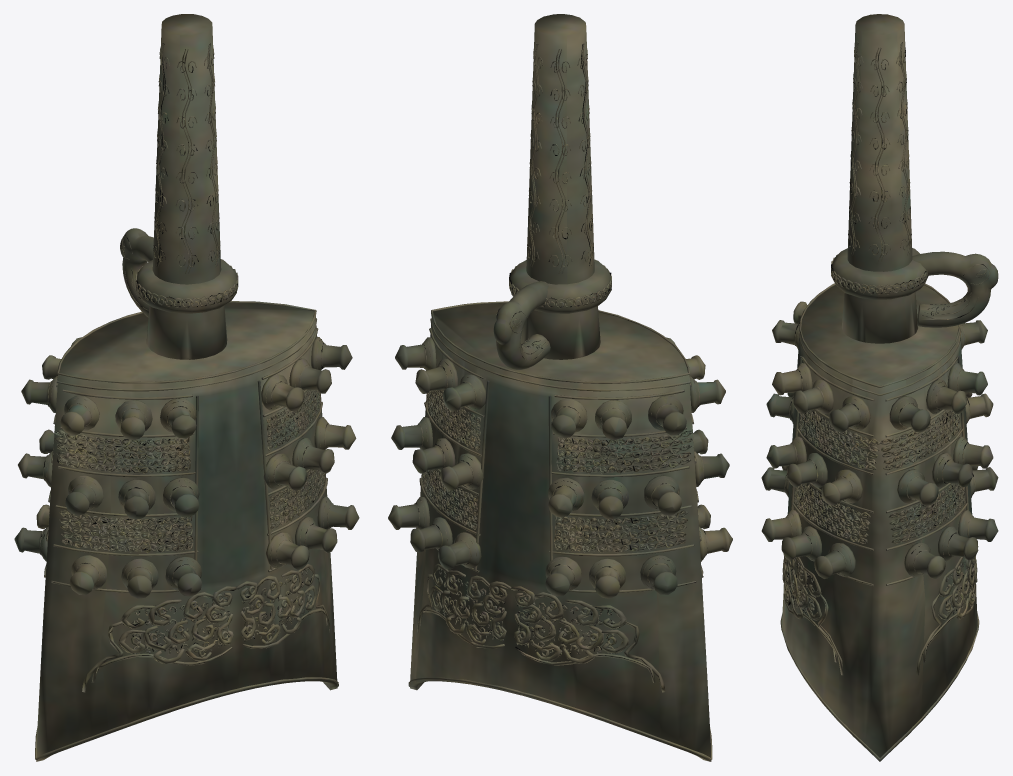
File: single-bell-observation.glb
3 renders of one model, left to right at view 1: azimuth 30°, elevation 25°; view 2: azimuth 150°, elevation 25°; view 3: azimuth 270°, elevation 25°, orthographic. The views are drawn at different scales.
Parts seen in each view (by area): view 1: BellObservation; view 2: BellObservation; view 3: BellObservation.
Part boxes in pixels (<box>): BellObservation: <box>14,14,359,761</box>; BellObservation: <box>388,14,732,761</box>; BellObservation: <box>761,14,998,761</box>.
Bounding box in the file's own units: 0.453 × 0.9997 × 0.3217.
1 material, 1 textured.
